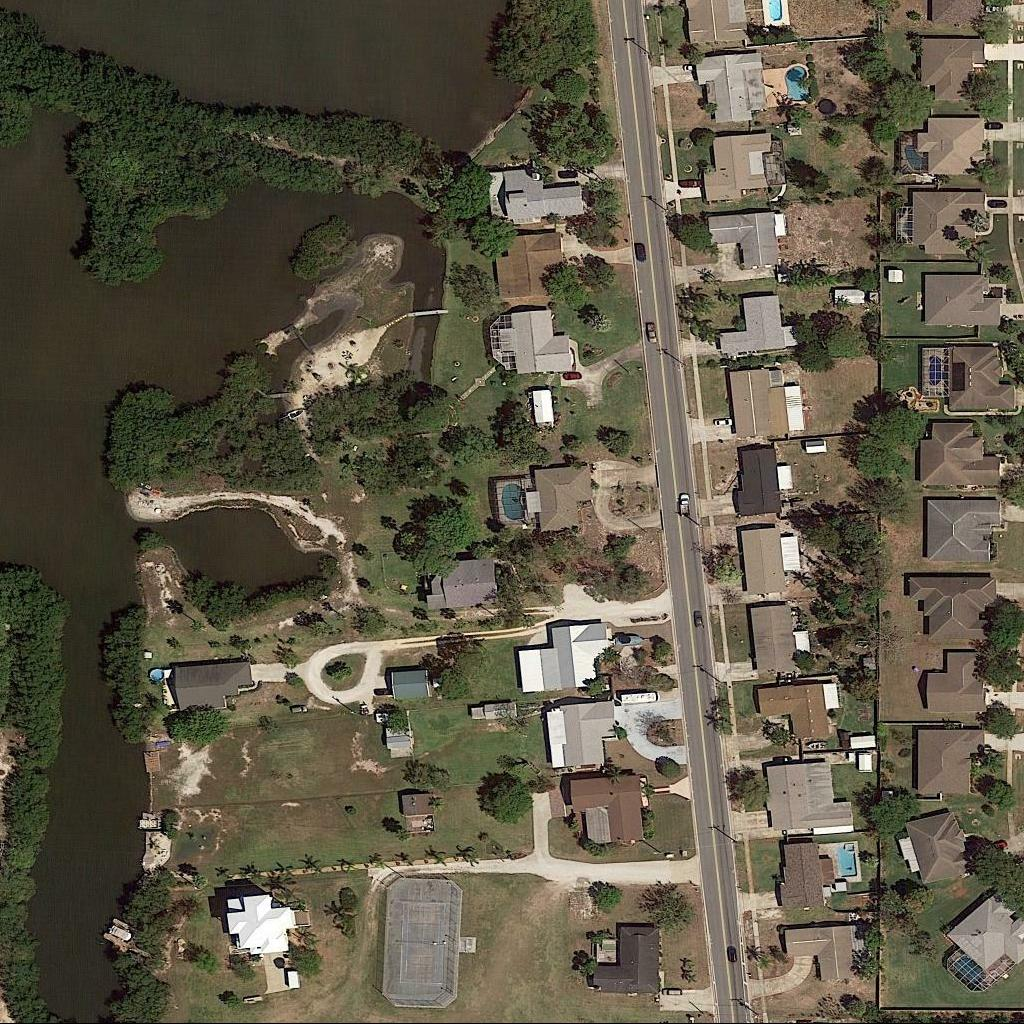ship: (108, 925, 134, 943), (614, 634, 646, 647), (289, 407, 306, 422), (805, 741, 828, 751)
